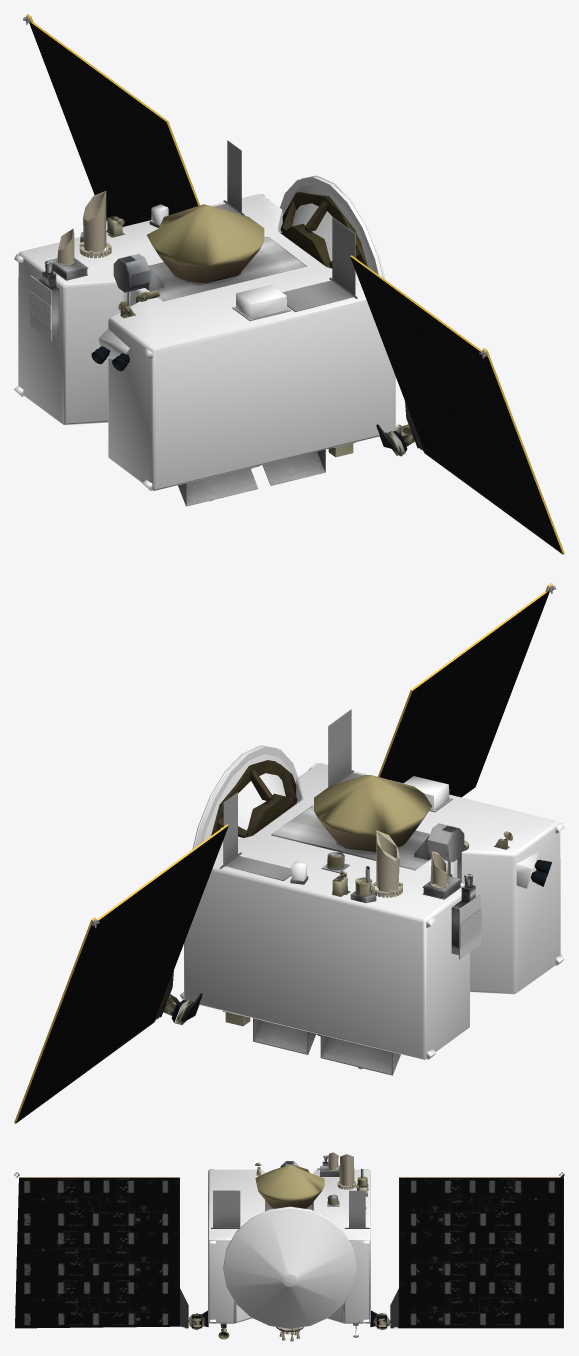
Rendered from osiris-rex.glb.
3 renders of one model, top to bottom at view 1: azimuth 30°, elevation 25°; view 2: azimuth 150°, elevation 25°; view 3: azimuth 270°, elevation 25°, orthographic. The views are drawn at different scales.
Bounding box in the file's own units: 2.47 × 2.23 × 6.22.
Materials: 7 (1 with a texture image).
